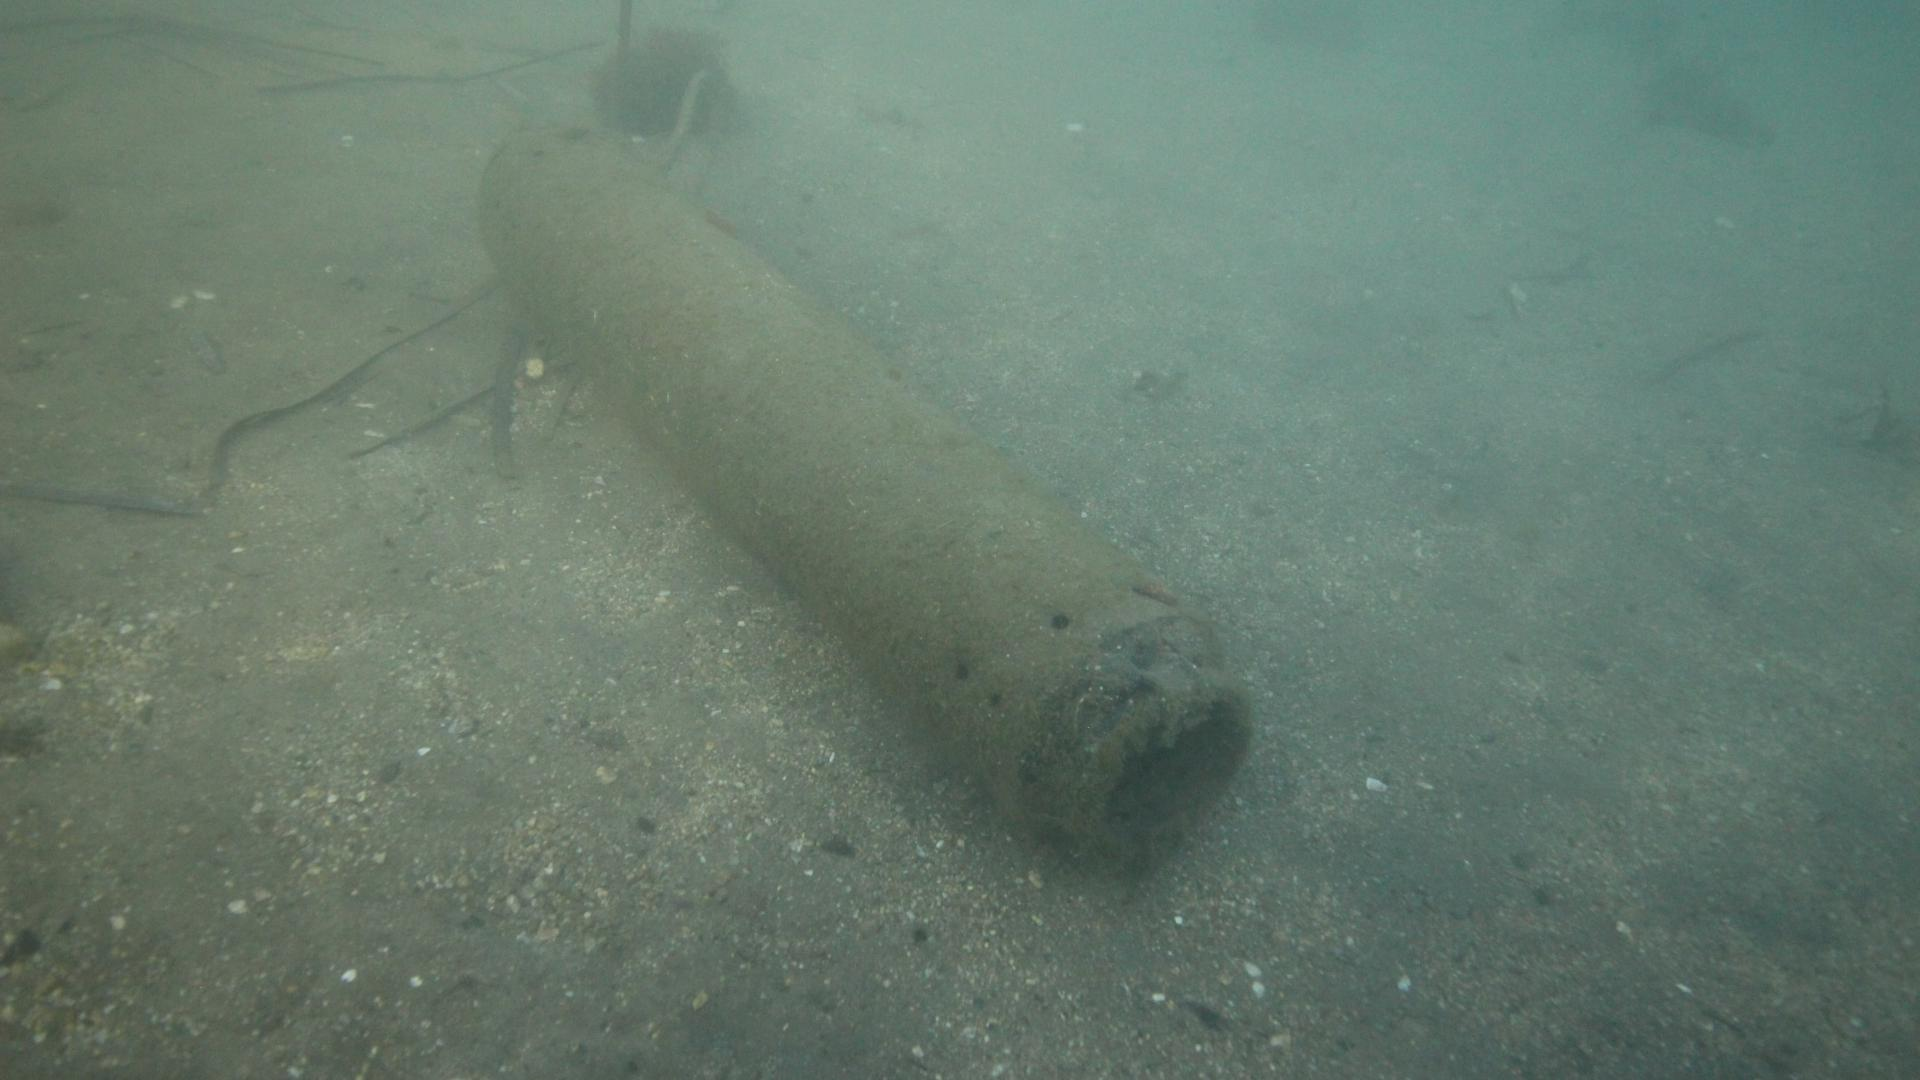eel fish trap: (477, 112, 1253, 880)
rope: (655, 63, 741, 207)
